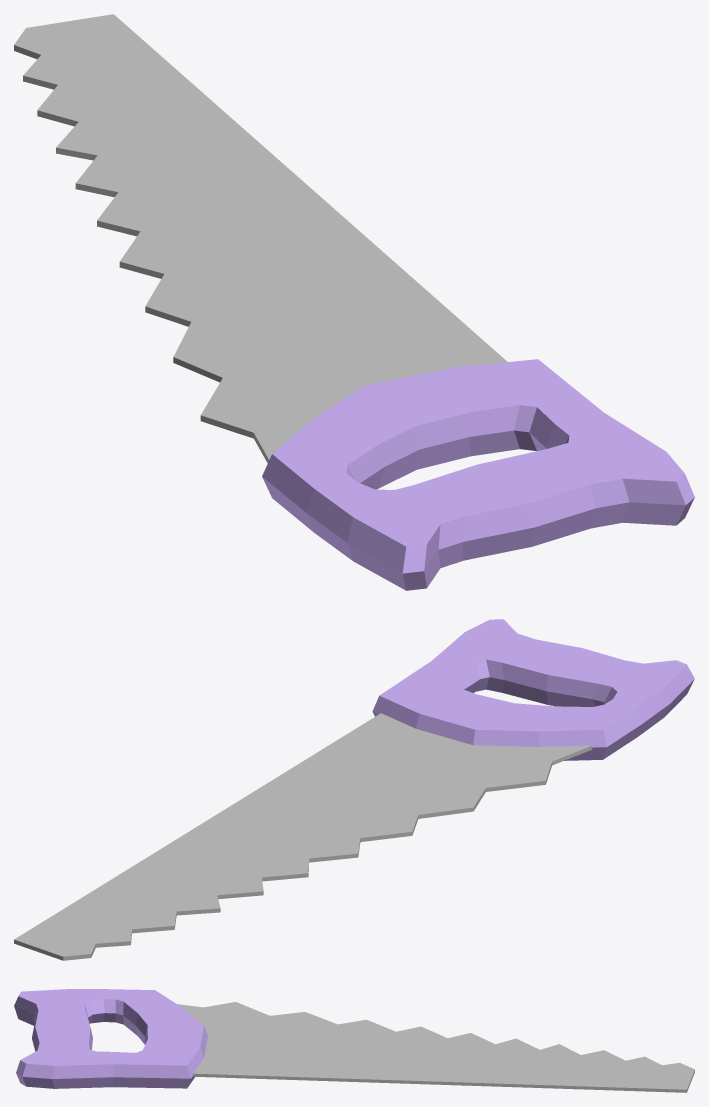
Rendered from SM_WeaponSaw.FBX.
The picture shows the model from 3 angles, top to bottom: view 1: azimuth 30°, elevation 25°; view 2: azimuth 150°, elevation 25°; view 3: azimuth 270°, elevation 25°; orthographic projection. The views are drawn at different scales.
Visible parts, largest first — view 1: SM_Saw; view 2: SM_Saw; view 3: SM_Saw.
Boxes of the visible parts, bbox=[...] form: SM_Saw: bbox=[14, 14, 694, 590]; SM_Saw: bbox=[14, 619, 694, 960]; SM_Saw: bbox=[14, 989, 694, 1092].
Size of the model in its own units: 4.04 by 12.55 by 0.4676.
